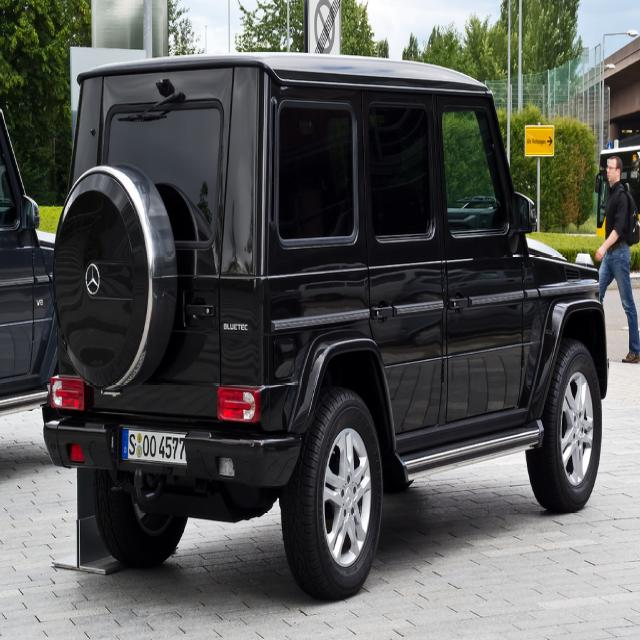car: (42, 50, 608, 602)
